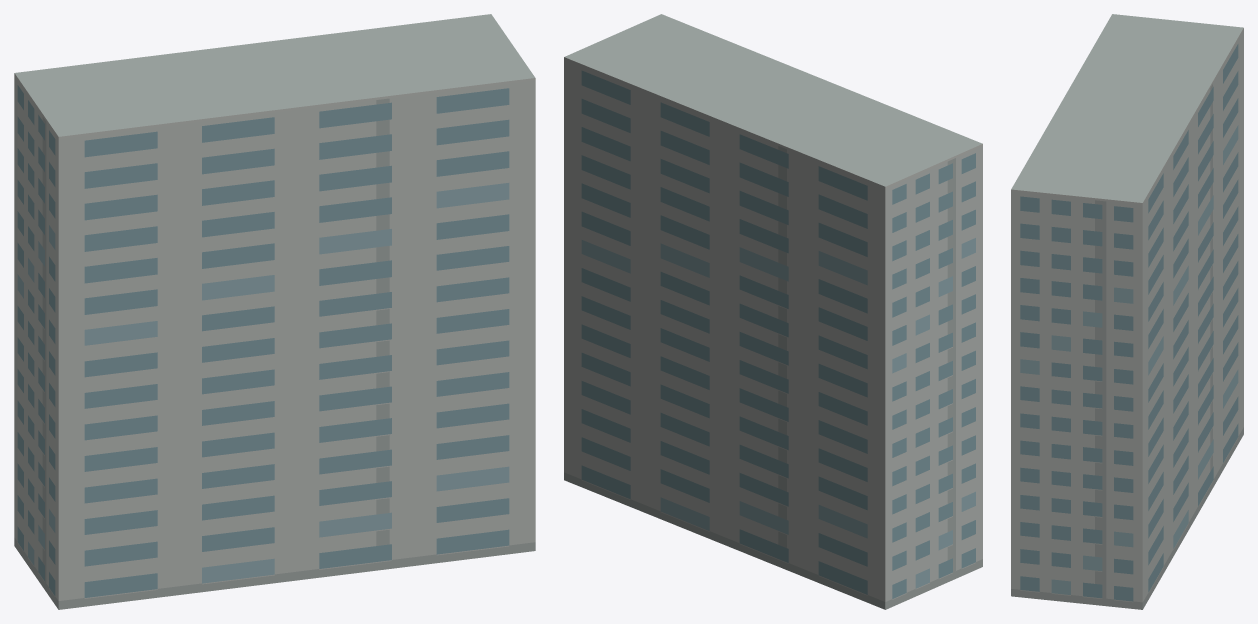
File: residential-920e2ce9-923a-4b56-8dc0-7360bde03ead.glb
The picture shows the model from 3 angles, left to right: view 1: azimuth 30°, elevation 25°; view 2: azimuth 150°, elevation 25°; view 3: azimuth 270°, elevation 25°; orthographic projection. The views are drawn at different scales.
Parts seen in each view (by area): view 1: residential-920e2ce9-923a-4b56-8dc0-7360bde03ead.tmp; view 2: residential-920e2ce9-923a-4b56-8dc0-7360bde03ead.tmp; view 3: residential-920e2ce9-923a-4b56-8dc0-7360bde03ead.tmp.
Boxes of the visible parts, left/top/right/bottom form: residential-920e2ce9-923a-4b56-8dc0-7360bde03ead.tmp: left=14, top=14, right=535, bottom=609; residential-920e2ce9-923a-4b56-8dc0-7360bde03ead.tmp: left=564, top=14, right=982, bottom=609; residential-920e2ce9-923a-4b56-8dc0-7360bde03ead.tmp: left=1011, top=14, right=1243, bottom=609.
Bounding box in the file's own units: 45.6 × 45.75 × 23.73.
